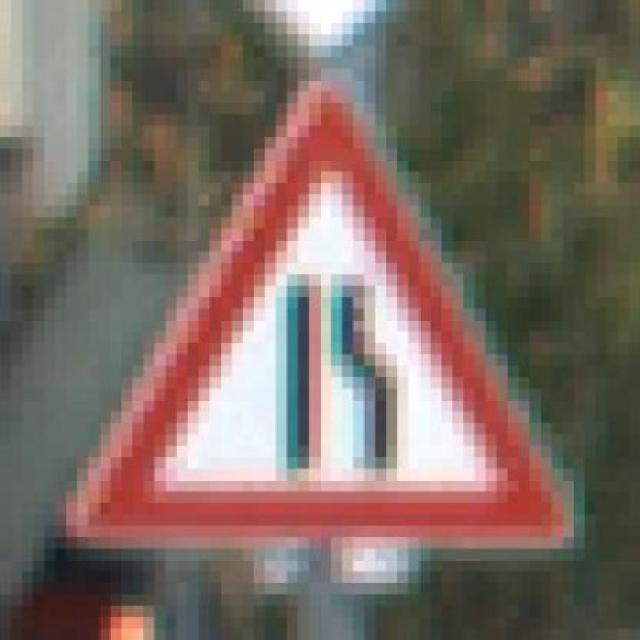-Road narrows on right: (55, 57, 607, 560)
